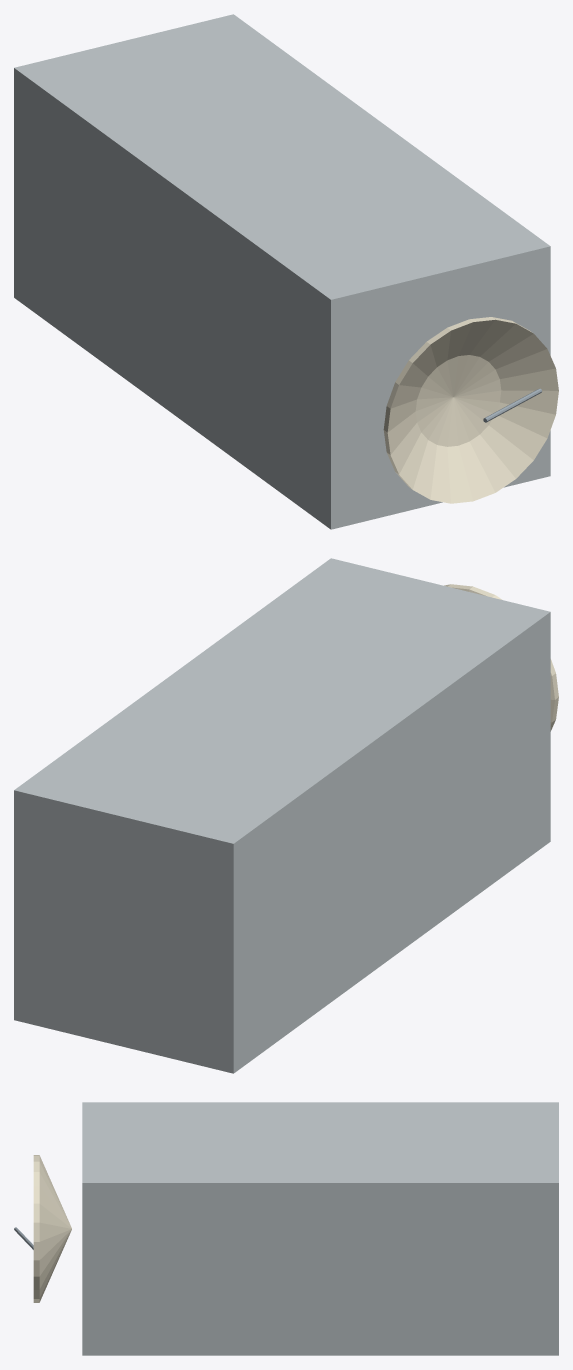
File: ref-adv-vortex-23223.glb
3 views of the same model, one above another, from view 1: azimuth 30°, elevation 25°; view 2: azimuth 150°, elevation 25°; view 3: azimuth 270°, elevation 25° (orthographic). The views are drawn at different scales.
Parts seen in each view (by area): view 1: Spacecraft body, Reflector dish; view 2: Spacecraft body, Reflector dish; view 3: Spacecraft body, Reflector dish.
Boxes of the visible parts, x1,y1,x2,y2 form: Spacecraft body: (14, 14, 550, 529); Reflector dish: (383, 317, 558, 503); Spacecraft body: (14, 558, 550, 1073); Reflector dish: (444, 584, 558, 731); Spacecraft body: (82, 1102, 558, 1355); Reflector dish: (33, 1155, 71, 1302).
Size of the model in its own units: 4 by 4 by 11.43.
